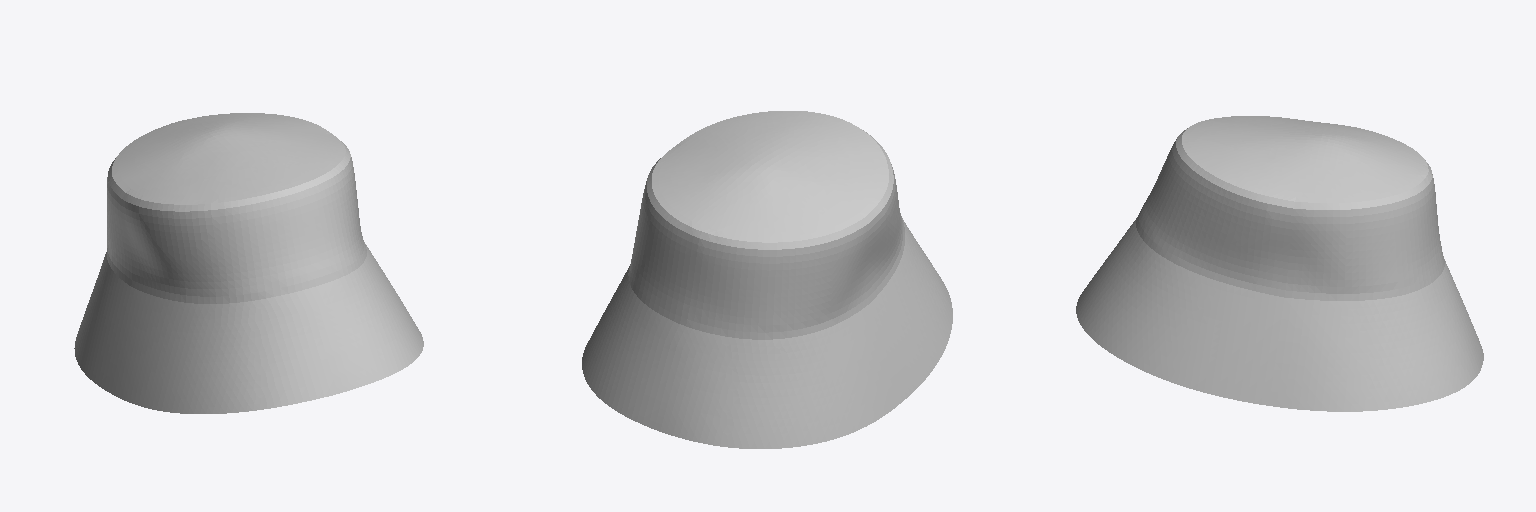
Rendered from cap.obj.
3 views of the same model, side by side, from view 1: azimuth 30°, elevation 25°; view 2: azimuth 150°, elevation 25°; view 3: azimuth 270°, elevation 25° (orthographic).
Parts seen in each view (by area): view 1: bucket_hat_gen8_thin_weld_toshitimo; view 2: bucket_hat_gen8_thin_weld_toshitimo; view 3: bucket_hat_gen8_thin_weld_toshitimo.
Boxes of the visible parts, x1=… form: bucket_hat_gen8_thin_weld_toshitimo: x1=74, y1=113, x2=423, y2=413; bucket_hat_gen8_thin_weld_toshitimo: x1=582, y1=111, x2=952, y2=448; bucket_hat_gen8_thin_weld_toshitimo: x1=1076, y1=116, x2=1483, y2=411.
Size of the model in its own units: 0.2358 by 0.1765 by 0.293.